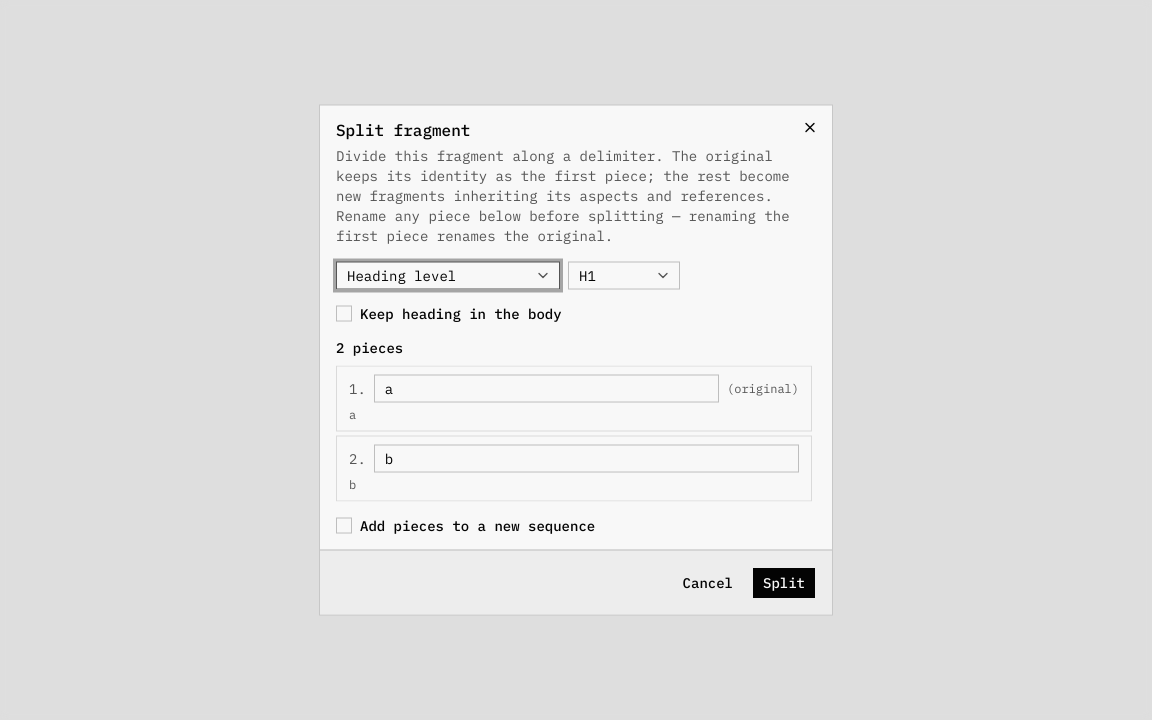
SplitFragmentDialog › shows an error and keeps the dialog open when the split itself fails
Click the button "Split". click: point(784, 582)
box: [752,566,816,598]
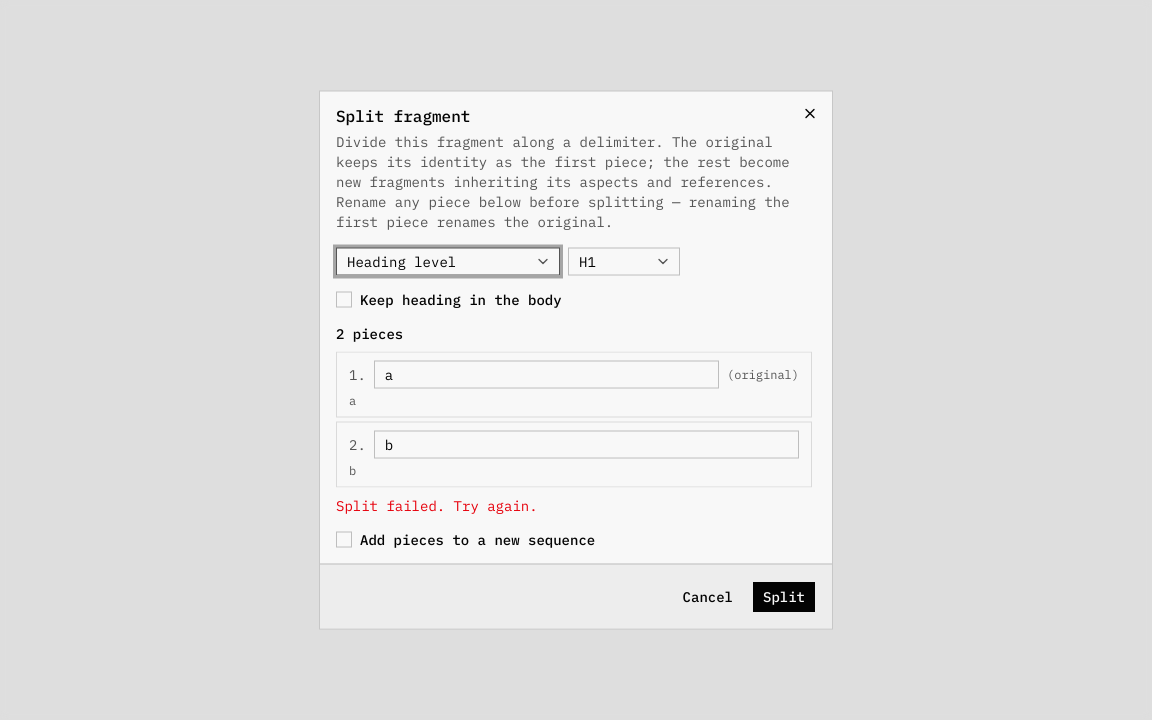
Now the text "Split failed. Try again." is shown, box [336,496,538,514]
